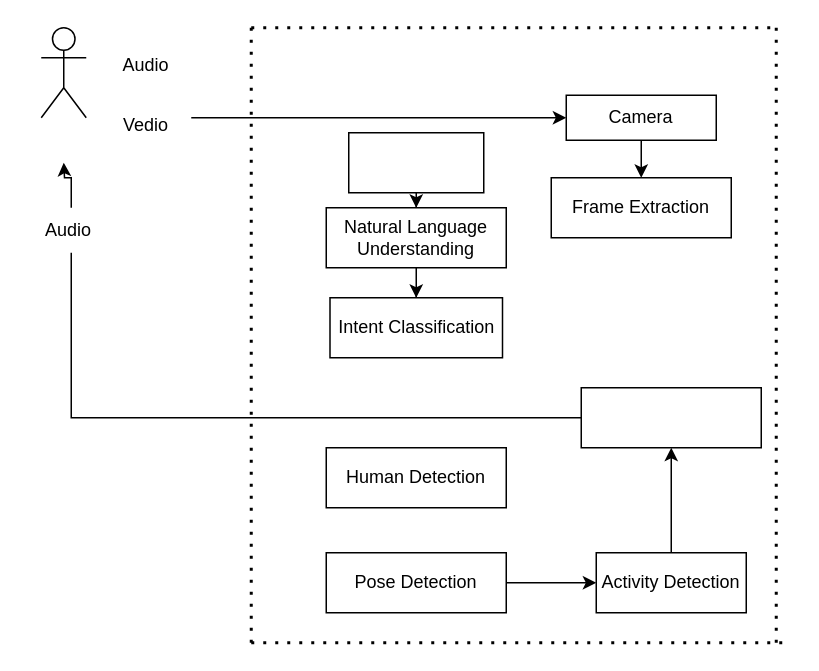
The diagram is 819 pixels wide and 671 high, and some of its shapes have lost their labels. Each missing label, with the box of its shape:
Text To Speech: (580, 386, 761, 448)
Text To Speech Conversion: (347, 131, 484, 193)
User: (40, 26, 86, 118)
